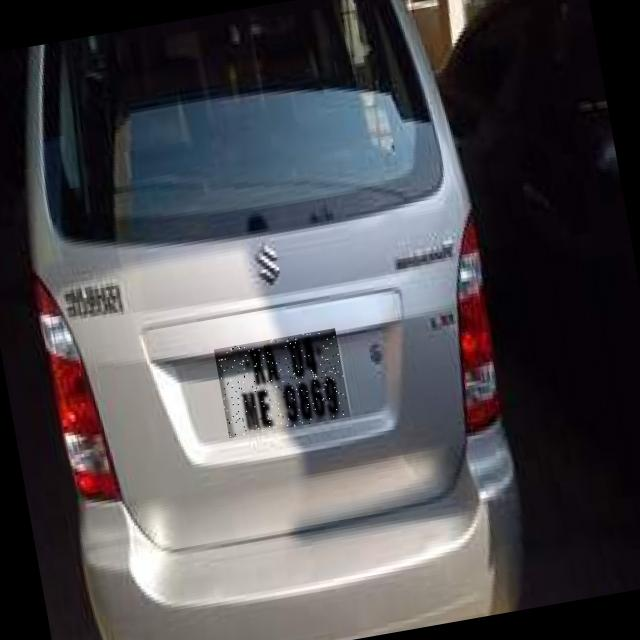Plate: (215, 329, 352, 439)
